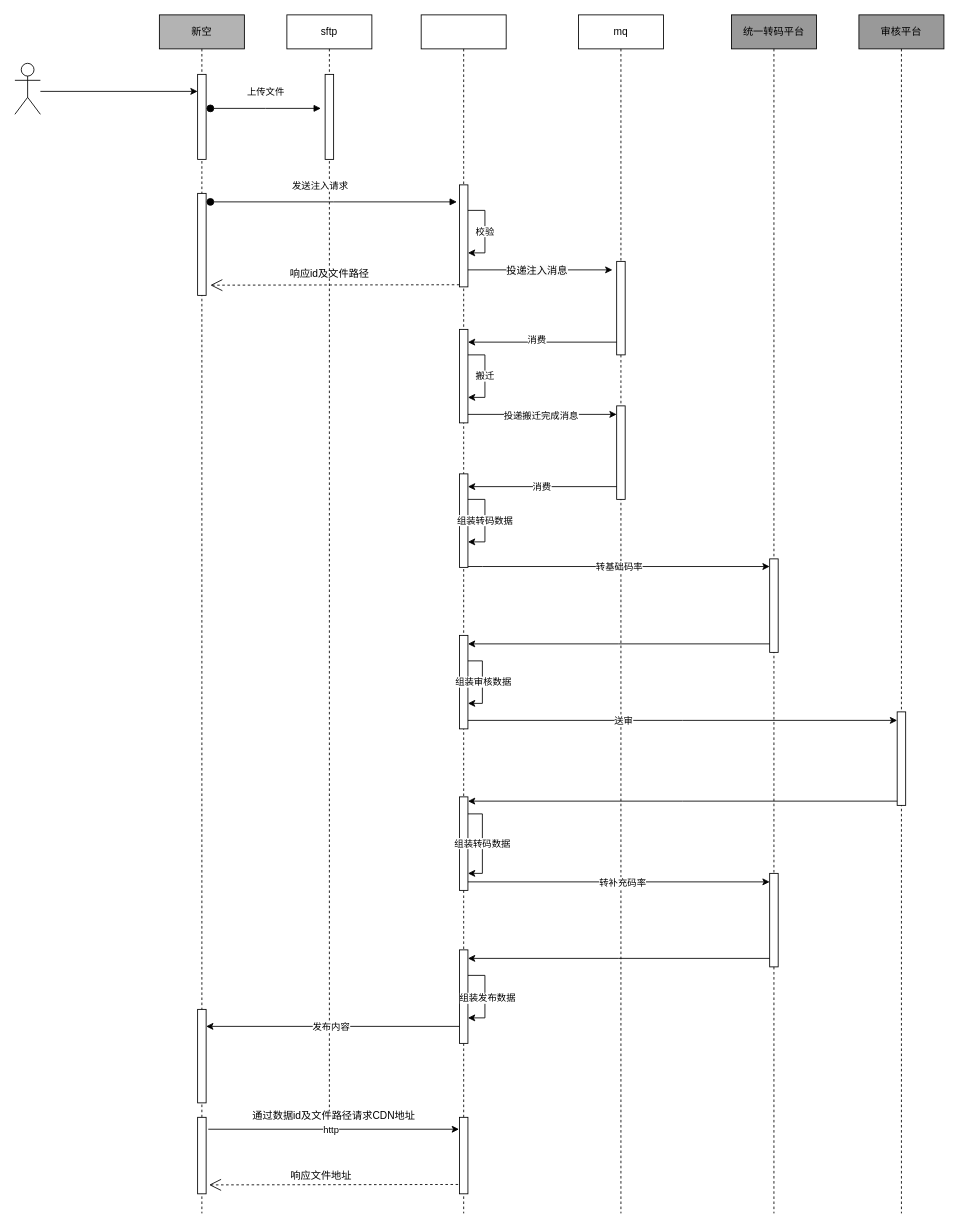
Some shapes in this 959 by 1228 pixel diagram are drawn without their labels. Each missing label, with the box of its shape:
Actor: (14, 62, 40, 114)
业务服务: (420, 14, 506, 1213)
